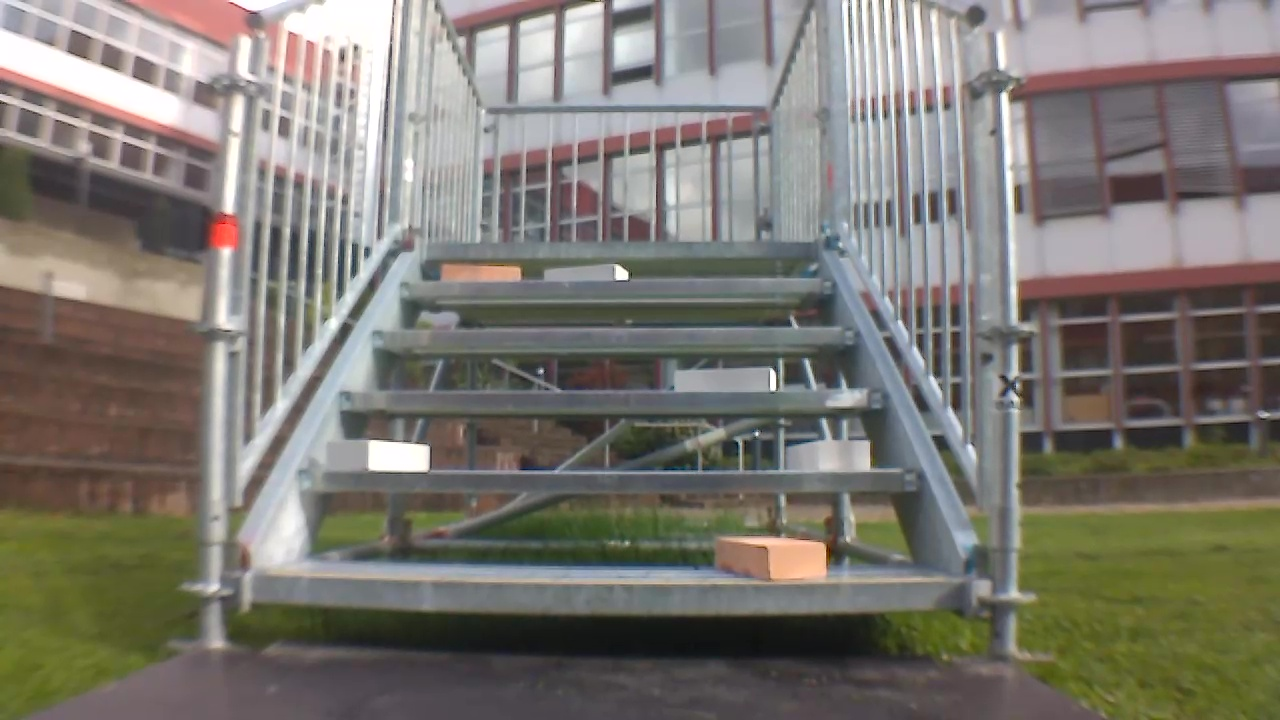brick: (716, 535, 825, 579), (328, 439, 428, 472), (786, 439, 869, 470), (674, 368, 774, 392), (545, 265, 629, 281), (442, 264, 519, 279)
edge: (258, 575, 956, 612), (303, 469, 917, 494), (340, 390, 883, 411), (371, 327, 856, 346), (402, 277, 837, 297), (421, 242, 818, 256)
stairs: (184, 2, 1047, 660)
steps: (244, 237, 966, 617)
